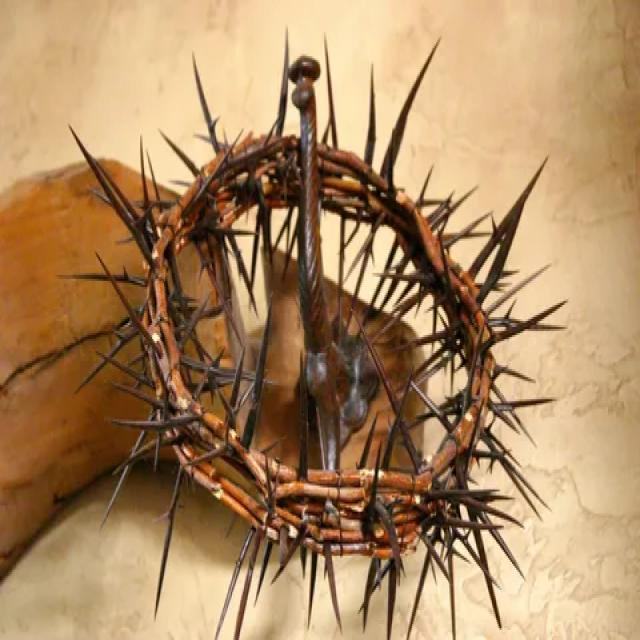crown: (88, 74, 534, 564)
